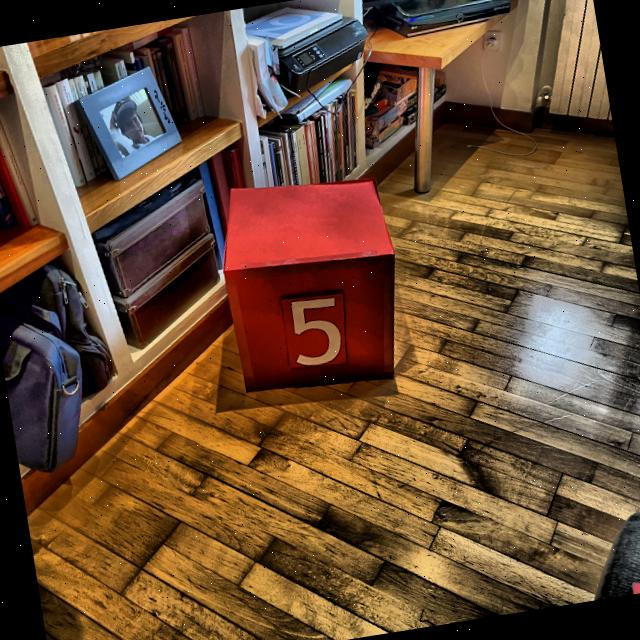five: (288, 294, 347, 371)
red box: (211, 162, 416, 402)
